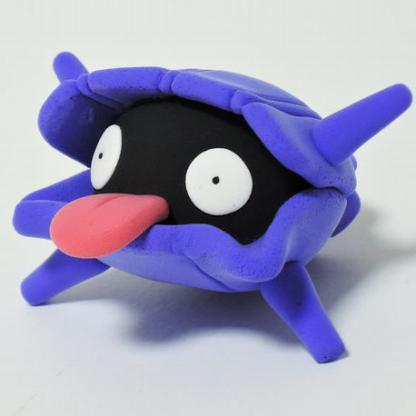Shellder: (14, 31, 416, 362)
